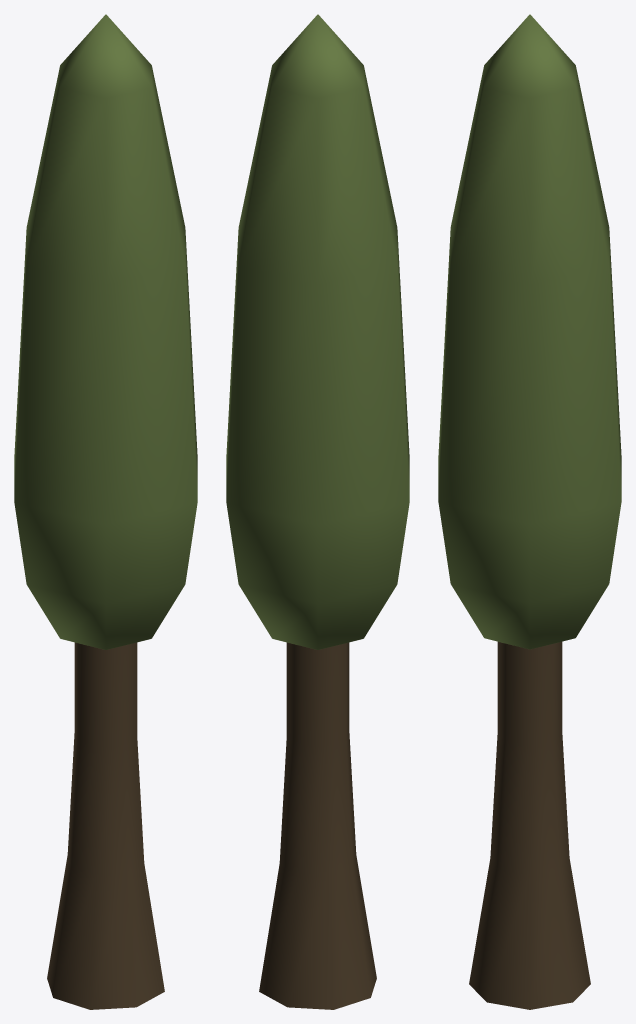
The model's file is PS_Tree02.fbx.
The picture shows the model from 3 angles, left to right: view 1: azimuth 30°, elevation 25°; view 2: azimuth 150°, elevation 25°; view 3: azimuth 270°, elevation 25°; orthographic projection.
Parts seen in each view (by area): view 1: PS_Tree02; view 2: PS_Tree02; view 3: PS_Tree02.
Boxes of the visible parts, x1,y1,x2,y2 form: PS_Tree02: [14, 14, 197, 1009]; PS_Tree02: [226, 14, 409, 1009]; PS_Tree02: [438, 14, 621, 1009].
Size of the model in its own units: 1.52 by 7.69 by 1.32.
